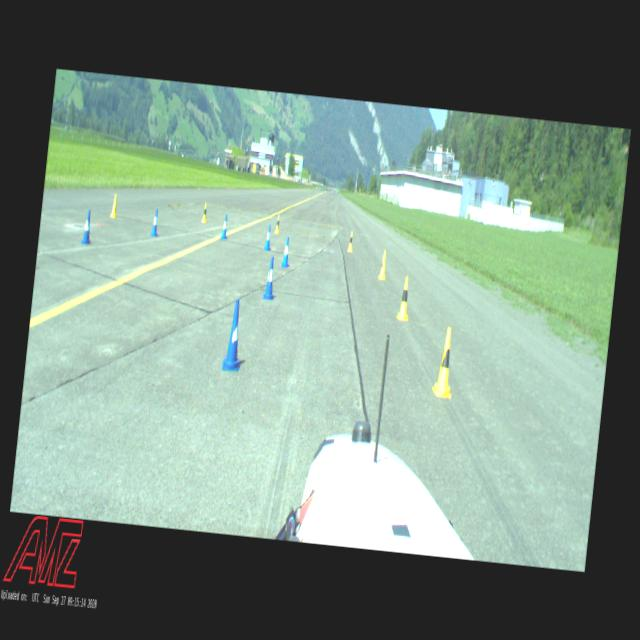blue_cone: (221, 297, 246, 371), (262, 256, 277, 300), (80, 209, 94, 245), (280, 235, 292, 267), (150, 207, 160, 236), (220, 213, 229, 240), (264, 223, 272, 250)
yellow_cone: (431, 326, 458, 398), (396, 274, 412, 320), (378, 249, 388, 280), (110, 194, 118, 218), (346, 230, 354, 252), (200, 202, 208, 222), (274, 214, 281, 234)
